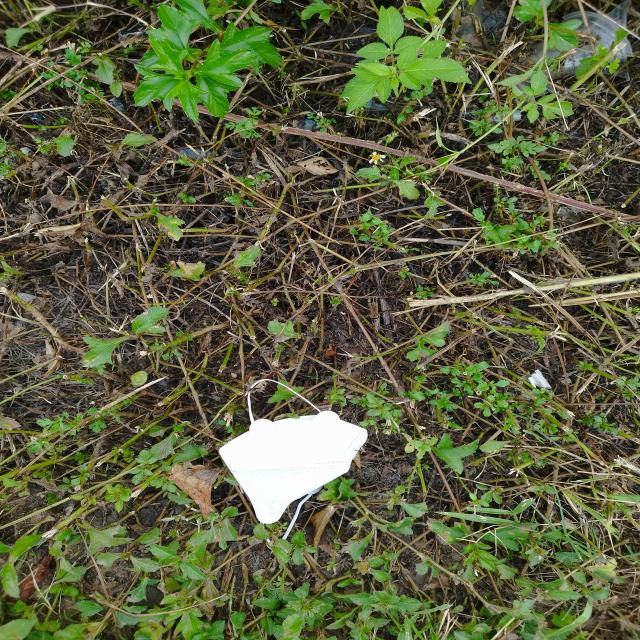mask: (218, 379, 368, 545)
